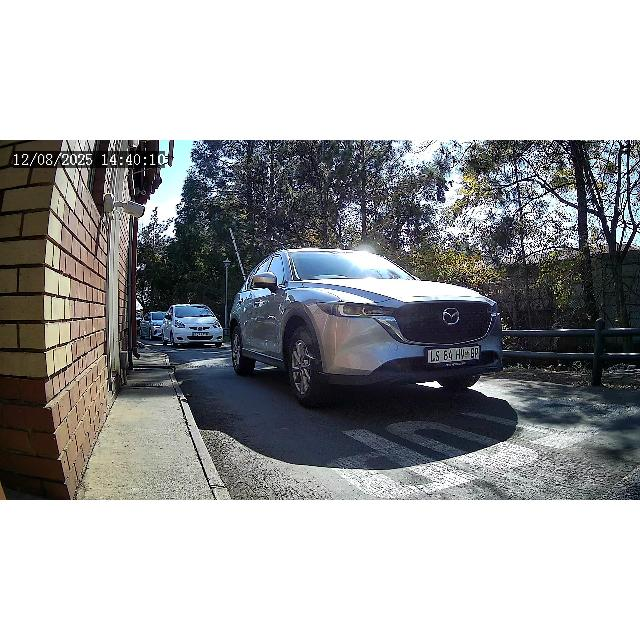car: (228, 247, 506, 409), (164, 304, 224, 348)
plate: (426, 348, 480, 364), (192, 331, 210, 337)
